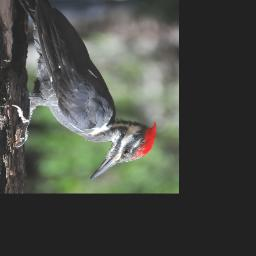Woodpecker: (12, 0, 158, 181)
